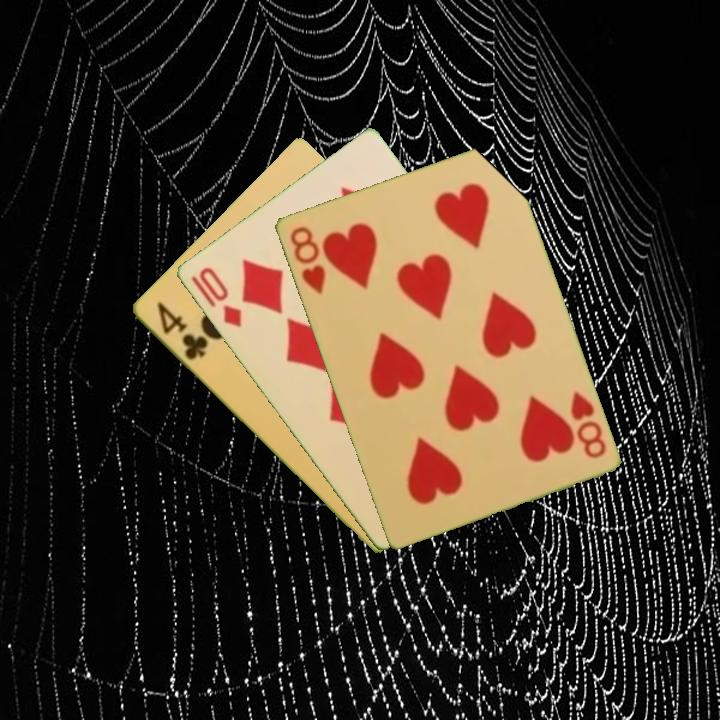10d: (194, 263, 245, 331)
4c: (152, 298, 211, 364)
8h: (566, 387, 609, 461), (286, 222, 328, 297)
